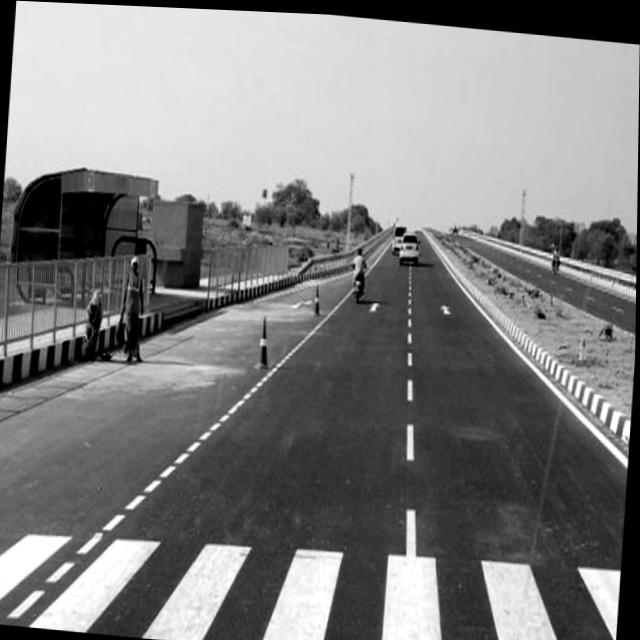cleat: (28, 80, 639, 640)
pathole: (66, 234, 629, 640)
